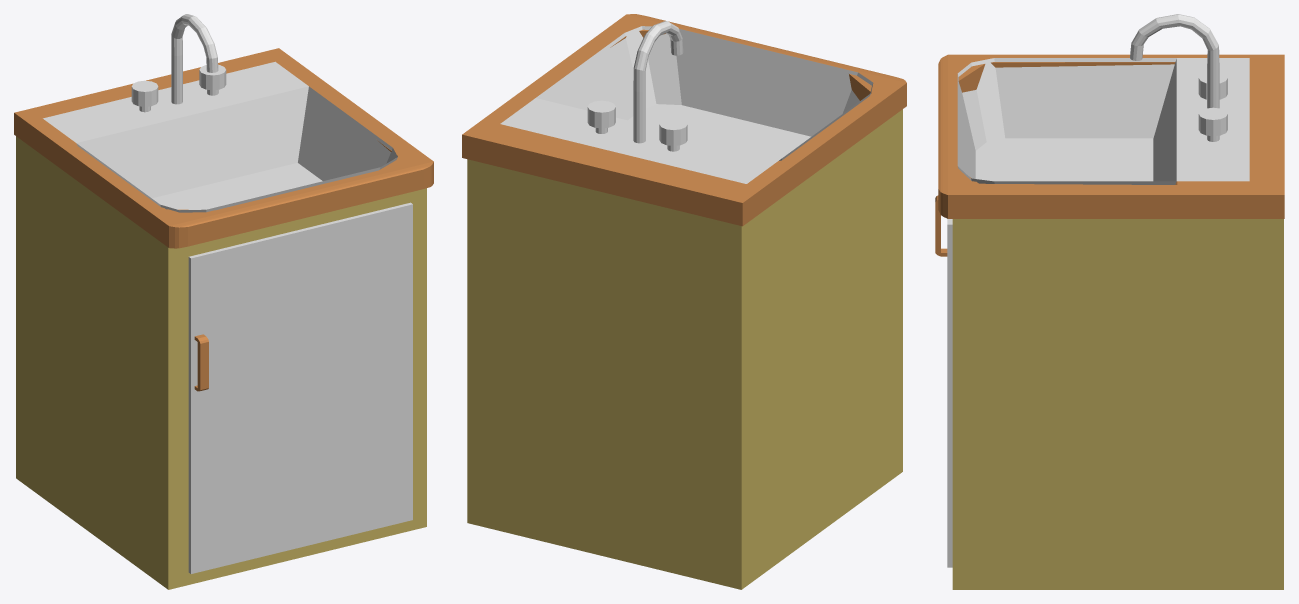
The model's file is Sink_kitchen___.fbx.
3 renders of one model, left to right at view 1: azimuth 30°, elevation 25°; view 2: azimuth 150°, elevation 25°; view 3: azimuth 270°, elevation 25°, orthographic. The views are drawn at different scales.
Visible parts, largest first — view 1: Cube.002, Cube, Plane, Cube.001, Loft05_9.001; view 2: Cube, Plane, Cube.001; view 3: Cube, Plane, Cube.001, Cube.002.
Part boxes in pixels (x1,y1,x2,y2): Cube.002: [188, 202, 412, 573]; Cube: [16, 136, 426, 589]; Plane: [43, 14, 397, 212]; Cube.001: [14, 48, 433, 248]; Loft05_9.001: [194, 334, 208, 391]; Cube: [467, 109, 902, 589]; Plane: [500, 21, 873, 183]; Cube.001: [462, 14, 906, 226]; Cube: [952, 219, 1283, 589]; Plane: [957, 14, 1249, 184]; Cube.001: [938, 54, 1284, 218]; Cube.002: [947, 219, 952, 567].
Bounding box in the file's own units: 201 × 337 × 211.
